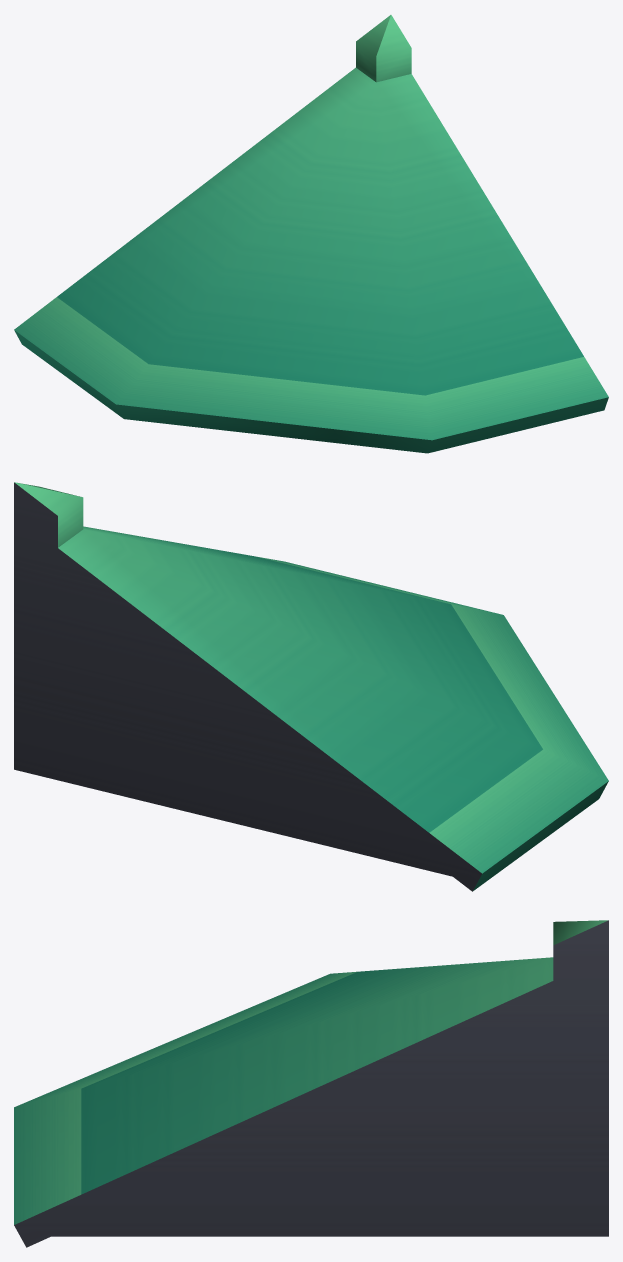
Rendered from roof-corner-round.glb.
3 views of the same model, one above another, from view 1: azimuth 30°, elevation 25°; view 2: azimuth 150°, elevation 25°; view 3: azimuth 270°, elevation 25° (orthographic). The views are drawn at different scales.
Parts seen in each view (by area): view 1: roof-corner-round; view 2: roof-corner-round; view 3: roof-corner-round.
Part boxes in pixels (x1,y1,x2,y2): roof-corner-round: [14, 15, 608, 453]; roof-corner-round: [14, 482, 608, 891]; roof-corner-round: [14, 920, 608, 1247].
Size of the model in its own units: 1.07 by 0.6483 by 1.07.
1 material, 1 textured.
